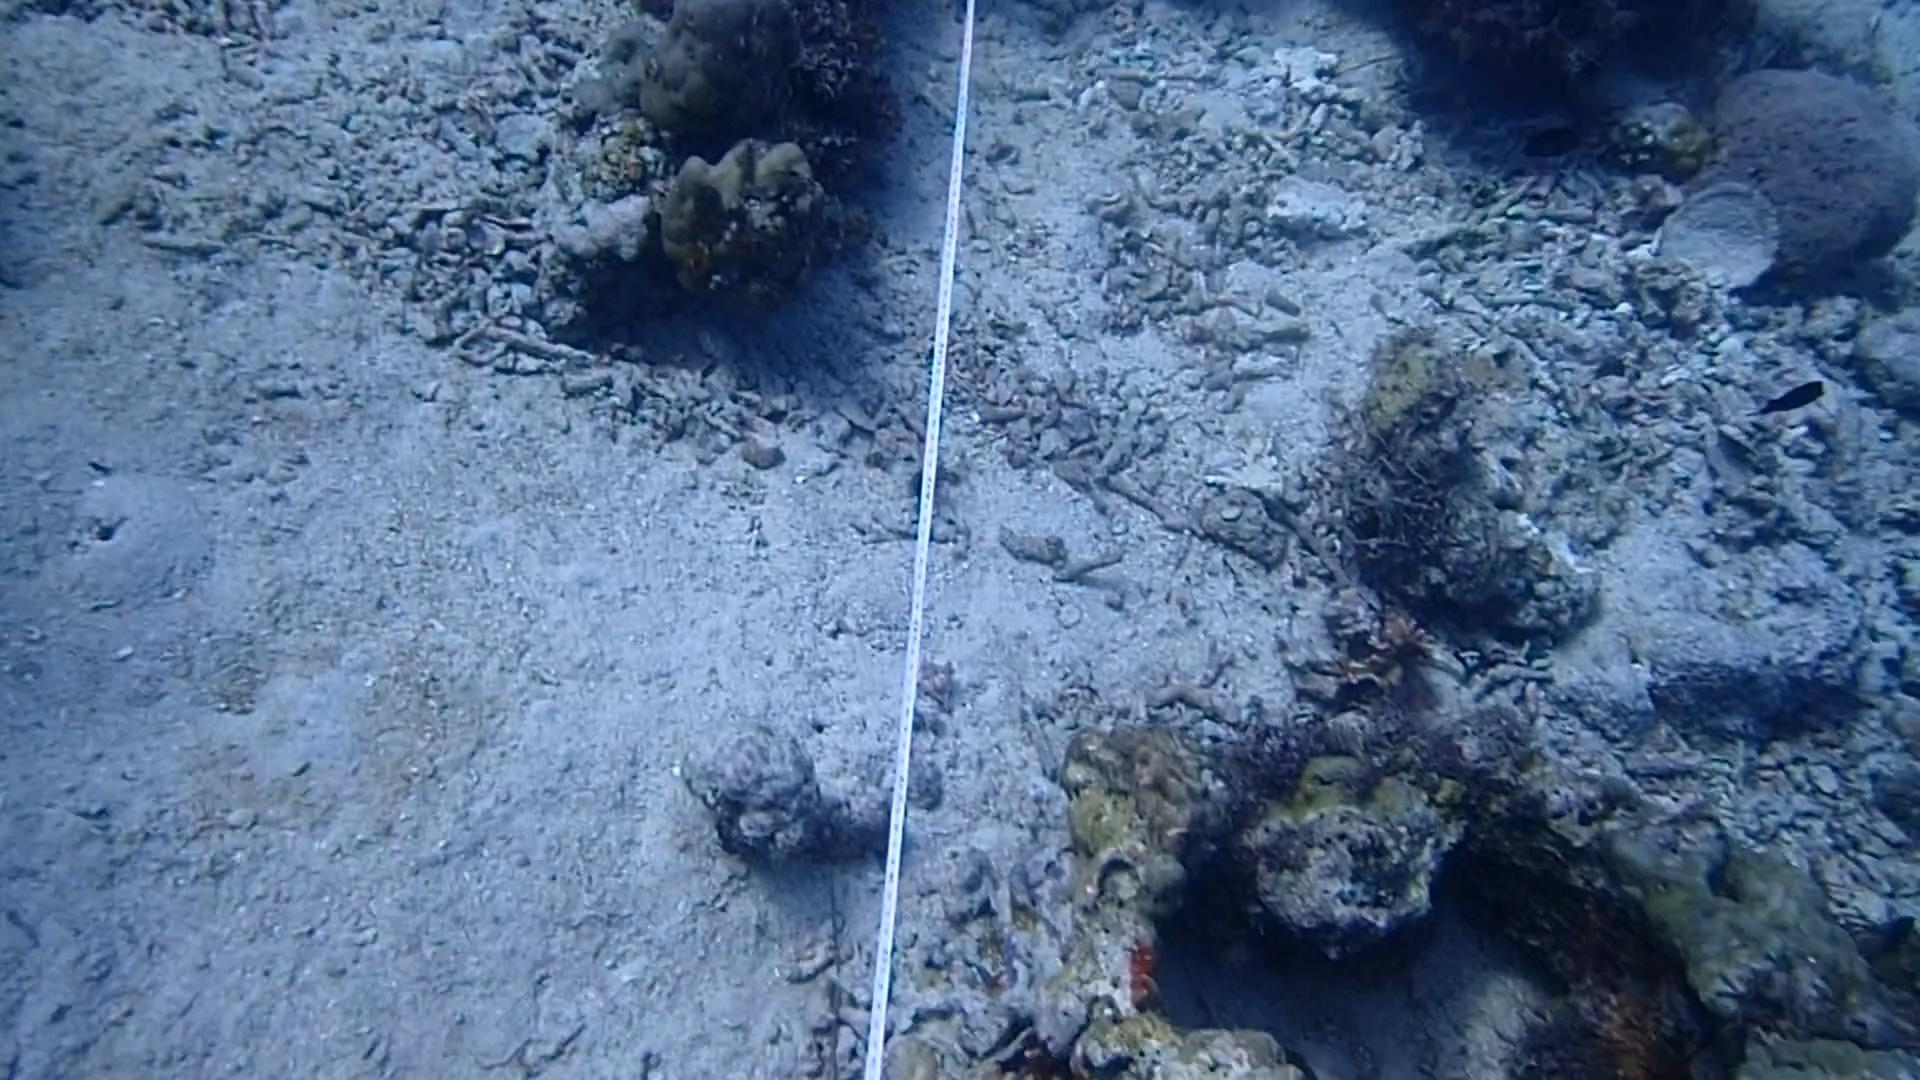Dark Fish: (1755, 361, 1846, 429), (1519, 113, 1585, 173)
